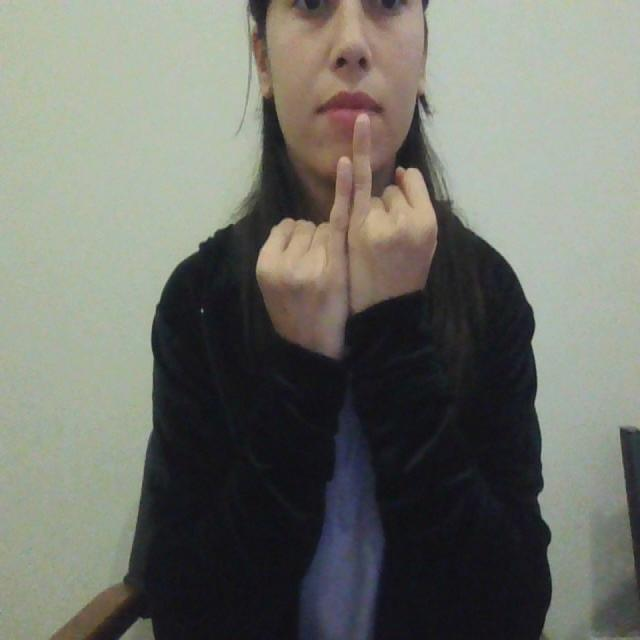Kardes: (249, 107, 442, 364)
